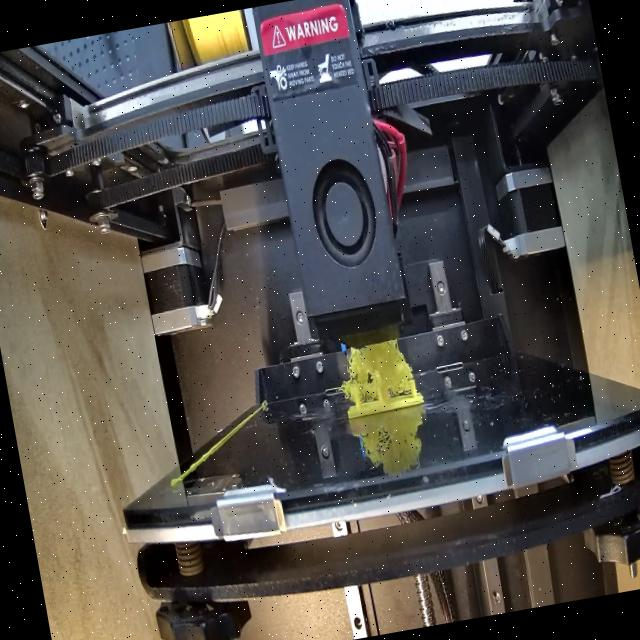spaghetti: (334, 334, 419, 404)
